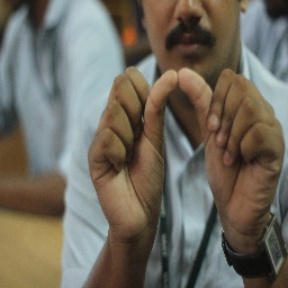A: (112, 68, 254, 201)
